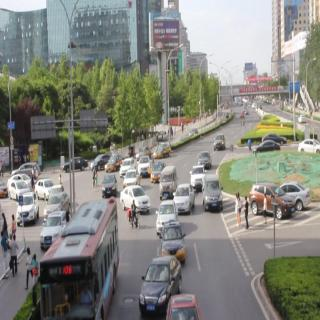BigCar: (40, 201, 122, 320)
Car: (140, 257, 185, 315), (251, 178, 295, 223), (279, 170, 312, 212), (200, 175, 228, 214), (157, 224, 189, 257), (174, 179, 197, 217), (120, 186, 149, 213), (42, 210, 68, 239), (253, 138, 286, 160), (159, 165, 180, 198), (19, 194, 38, 228), (261, 124, 288, 147), (64, 156, 95, 176), (158, 203, 178, 232), (8, 180, 28, 206), (138, 150, 155, 180), (125, 162, 141, 192), (150, 158, 167, 186), (300, 139, 320, 162), (190, 166, 207, 192), (196, 149, 213, 175), (119, 158, 137, 179), (13, 171, 32, 190), (46, 183, 64, 203), (105, 152, 123, 172), (35, 178, 52, 198), (102, 175, 116, 197), (16, 162, 37, 176), (214, 133, 226, 156), (94, 153, 110, 169)
